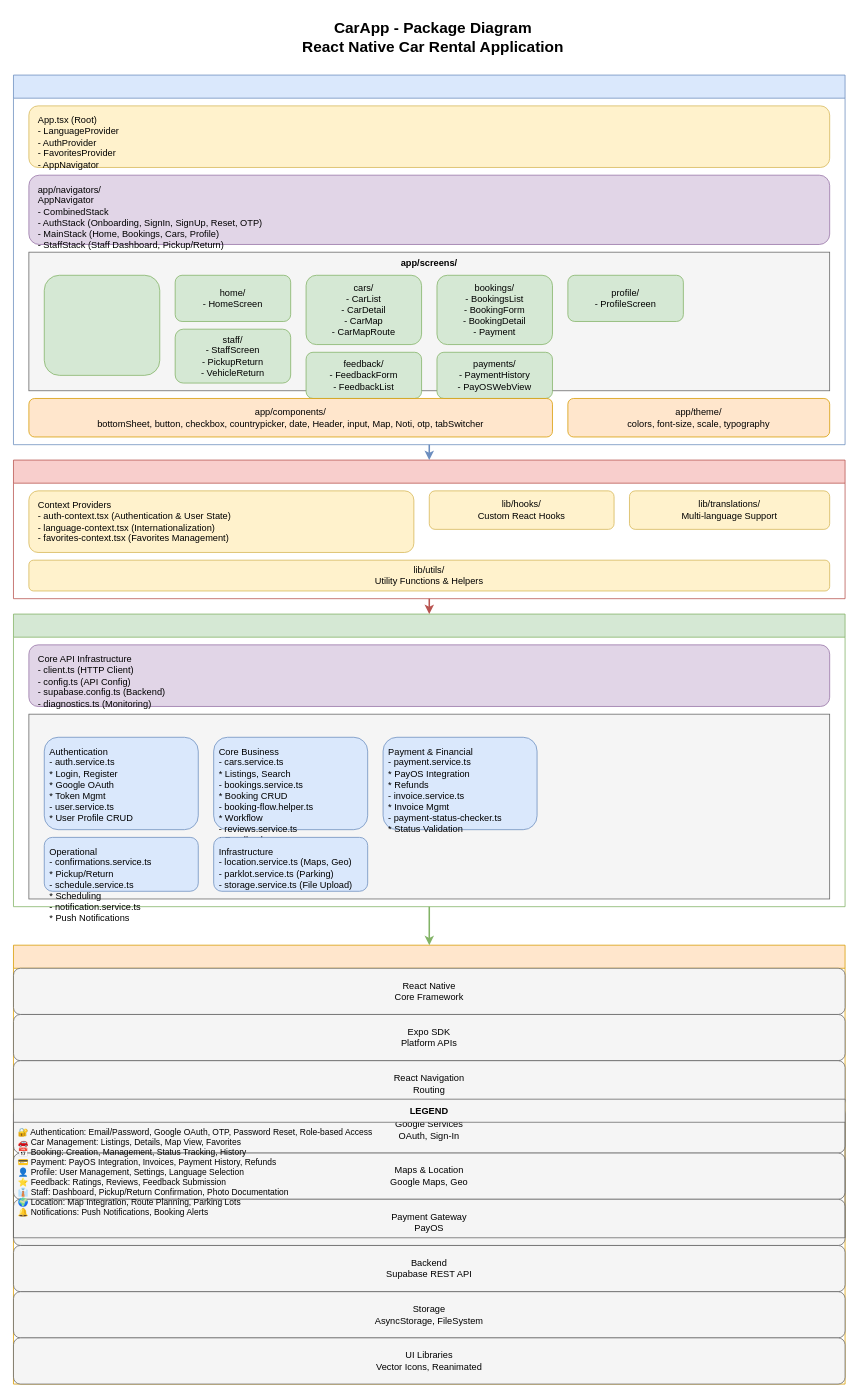
The diagram is 859 pixels wide and 1398 high, and some of its shapes have lost their labels. Here are the shapes that lost their labels. From the top down, the box of each, then its label:
(13, 74, 845, 445): PRESENTATION LAYER
(44, 275, 160, 375): onboarding/ singin/ signup/ otp/ reset/ verify/
(13, 459, 845, 599): BUSINESS LOGIC LAYER
(13, 613, 845, 907): DATA ACCESS LAYER (API)
(28, 713, 830, 899): lib/api/services/
(13, 944, 845, 1384): EXTERNAL DEPENDENCIES
